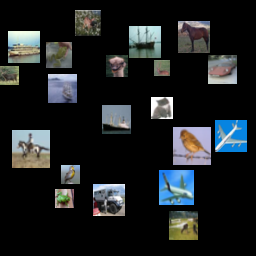airplane: (159, 170, 194, 205), (215, 120, 247, 152)
automobile: (208, 55, 237, 84)
bird: (173, 127, 211, 165), (106, 55, 128, 77), (61, 165, 80, 184)
cat: (151, 97, 173, 119)
deer: (169, 211, 198, 240), (75, 10, 101, 36), (0, 66, 19, 85), (154, 60, 170, 76)
frog: (46, 42, 72, 68), (55, 189, 74, 208)
ship: (8, 31, 40, 63), (129, 26, 161, 58), (48, 74, 77, 103), (102, 105, 131, 134)
